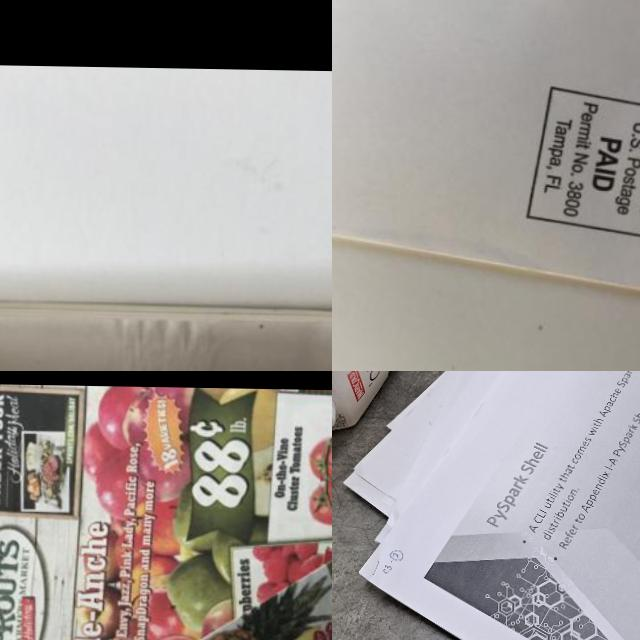papel: (332, 0, 640, 309), (0, 382, 332, 640), (341, 371, 640, 640), (0, 283, 332, 371)
